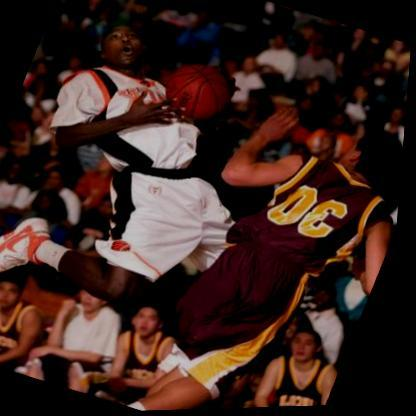basketball: (158, 54, 244, 133)
